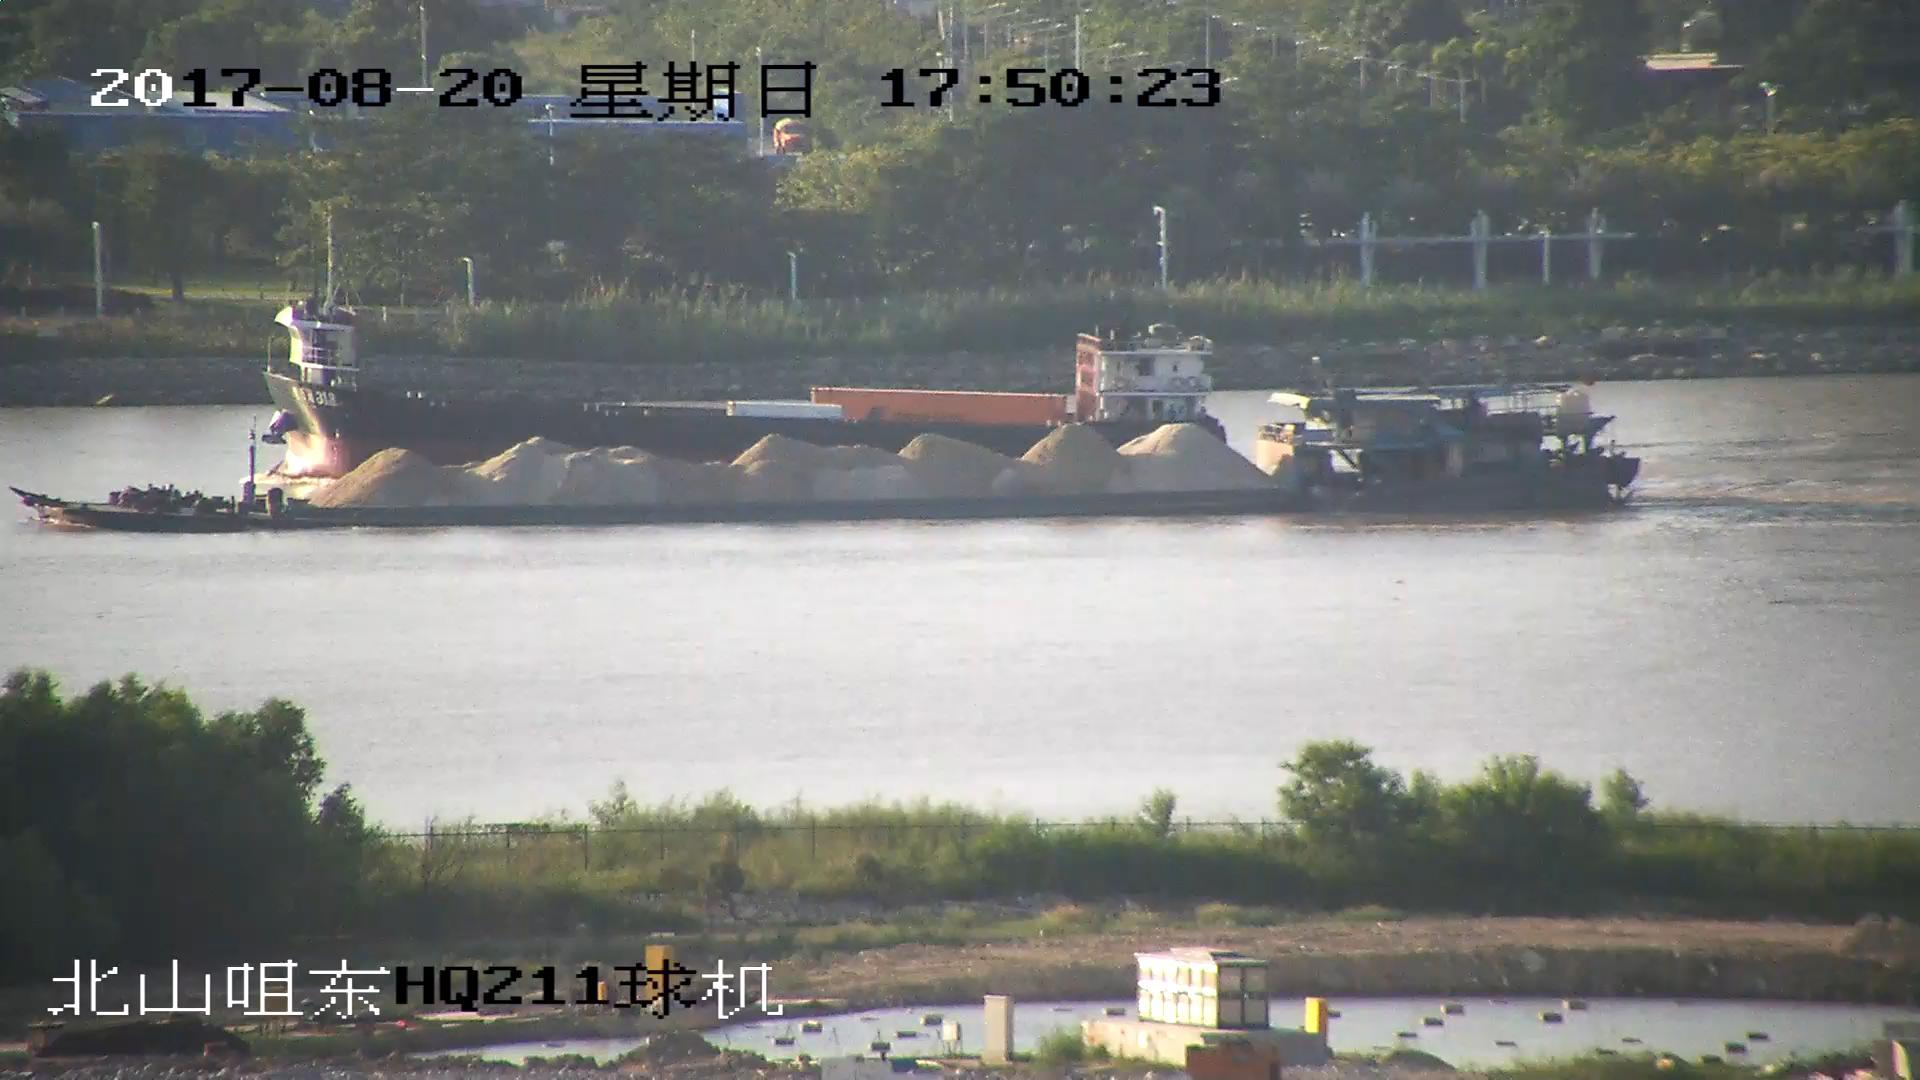Ship: (251, 208, 1255, 483), (21, 386, 1648, 529)
